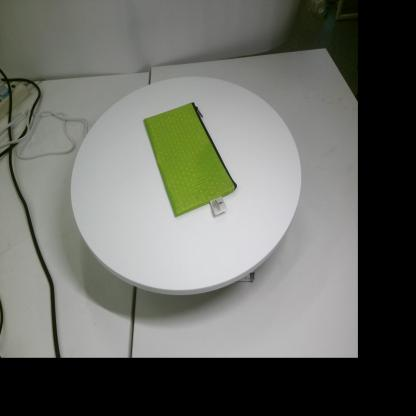Stationery: (143, 102, 237, 217)
